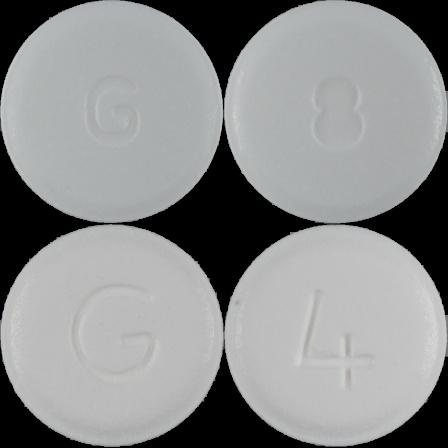42254-212: (0, 0, 224, 224)
